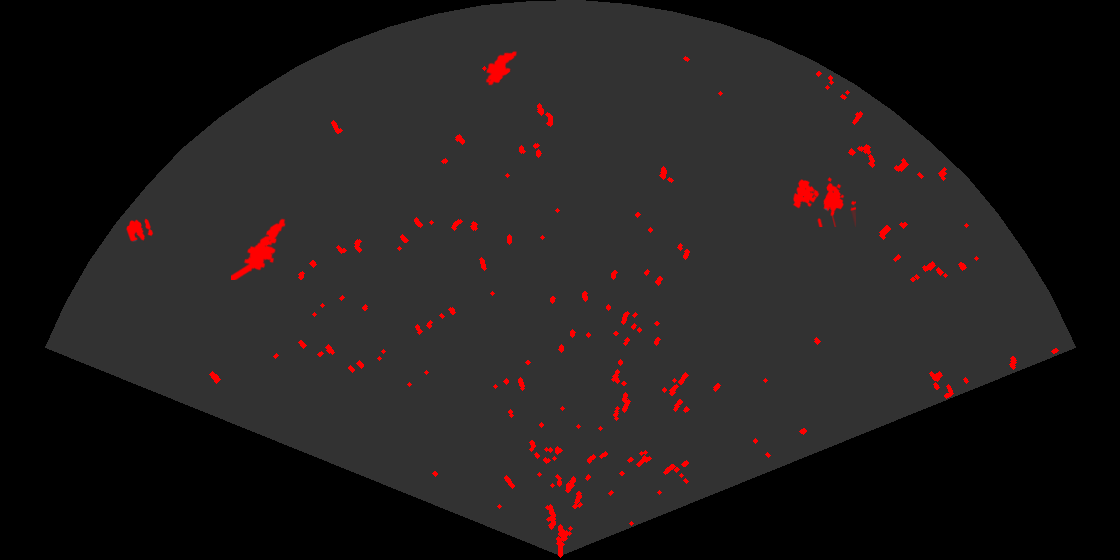AUV: (484, 49, 519, 87)
ball: (125, 217, 155, 243)
cage: (791, 176, 856, 227)
frogman: (231, 217, 287, 280)
